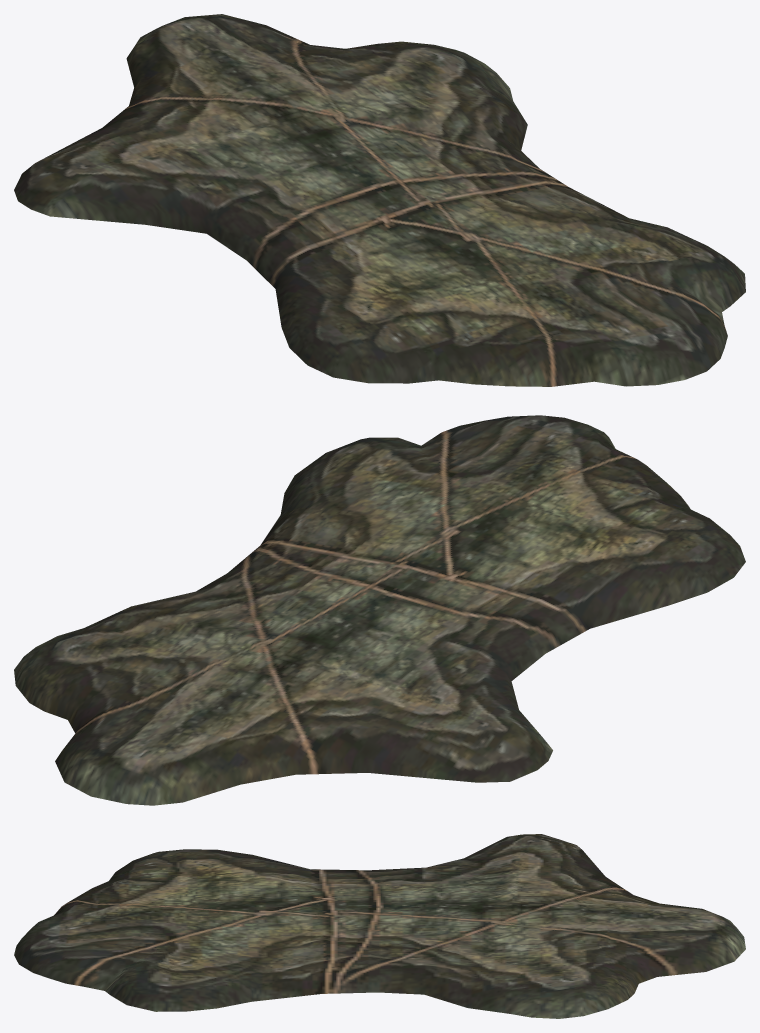
Rendered from con_gen_organic_hide_scaly_l0.fbx.
The picture shows the model from 3 angles, top to bottom: view 1: azimuth 30°, elevation 25°; view 2: azimuth 150°, elevation 25°; view 3: azimuth 270°, elevation 25°; orthographic projection. The views are drawn at different scales.
Parts seen in each view (by area): view 1: mesh_node; view 2: mesh_node; view 3: mesh_node.
Part boxes in pixels (box(x1,y1,x2,y2)): mesh_node: box(14, 14, 745, 386); mesh_node: box(14, 415, 745, 805); mesh_node: box(14, 834, 745, 1018).
Bounding box in the file's own units: 1.17 × 0.0844 × 2.
